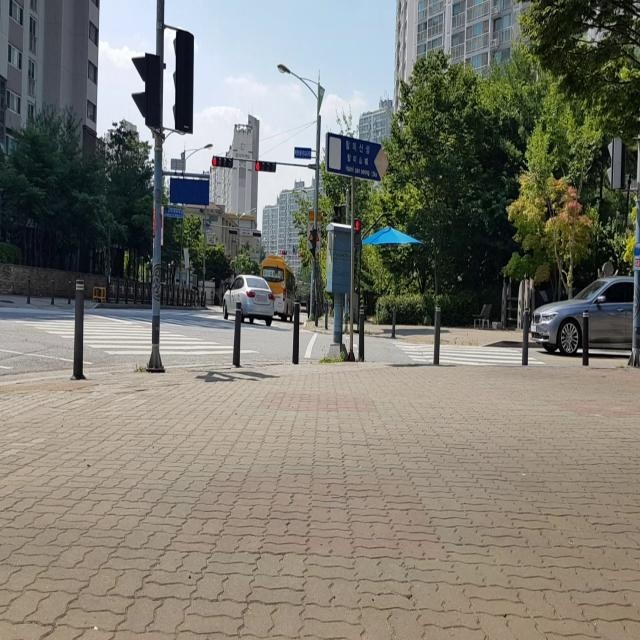빨간불: (353, 218, 361, 248), (334, 206, 343, 224)
횡단보도: (0, 307, 260, 367), (388, 334, 547, 368)
